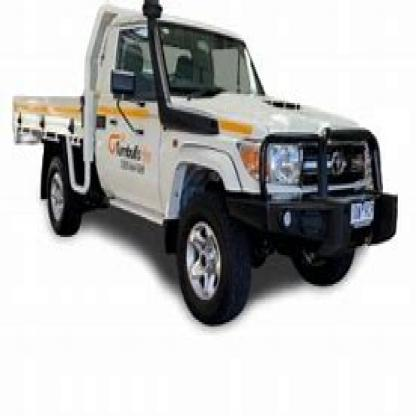light_vehicle: (9, 2, 396, 324)
